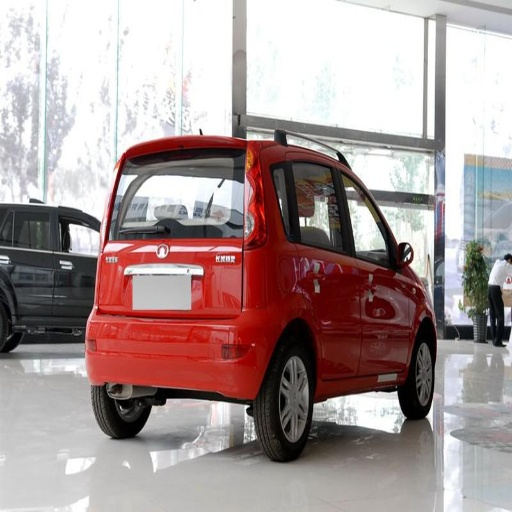back_right_door: (290, 153, 368, 374), (13, 251, 49, 311)
trunk: (96, 238, 290, 385)
